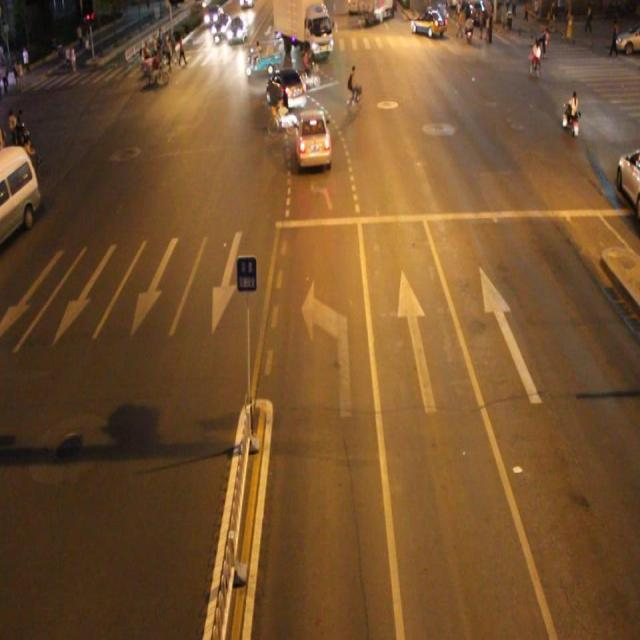car: (293, 108, 332, 171), (265, 68, 304, 110)
truck: (1, 145, 40, 241)
